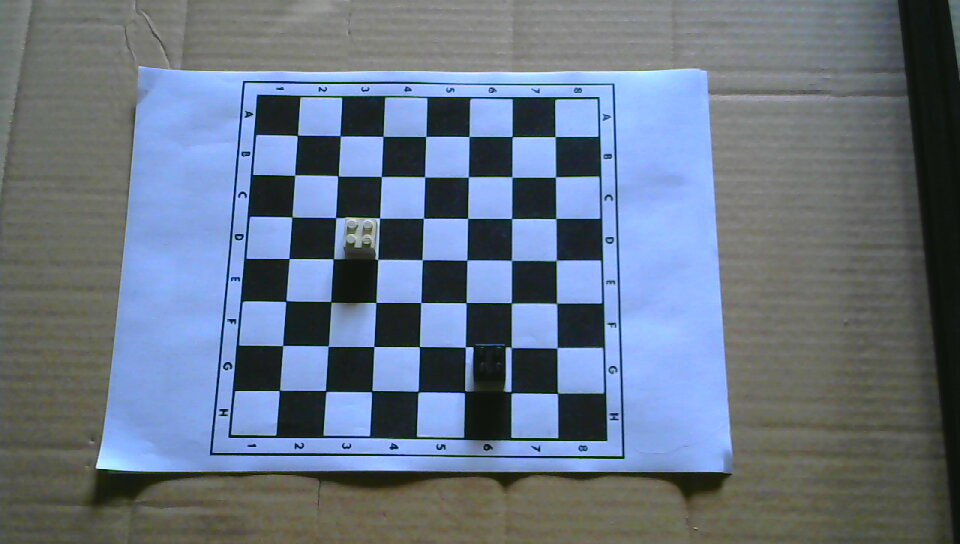bp: (472, 344, 508, 382)
wp: (341, 216, 377, 256)
